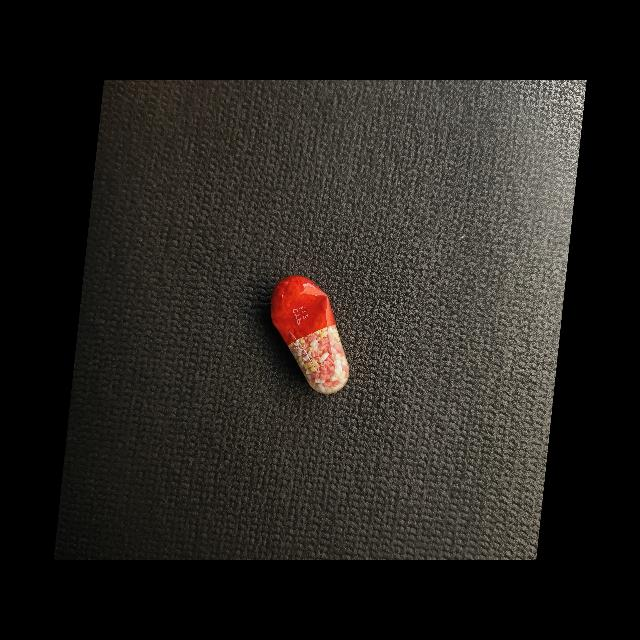Defective Capsule: (271, 276, 349, 394)
